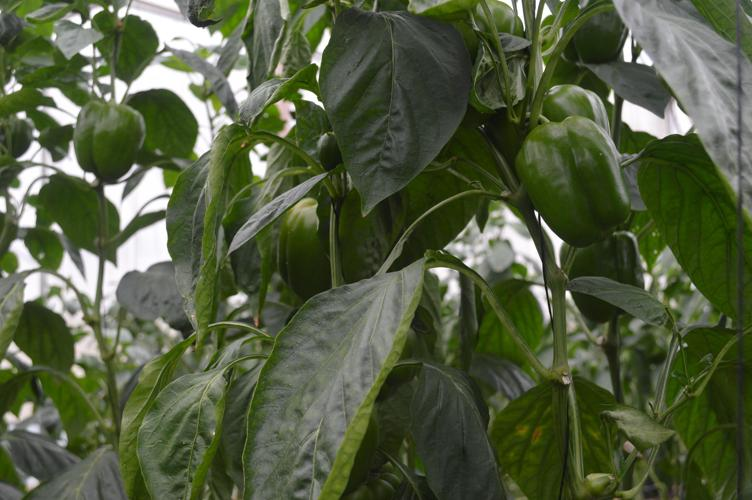BellPepper: (513, 117, 635, 245), (488, 84, 607, 160), (552, 229, 645, 316), (273, 196, 341, 295), (74, 99, 143, 185), (568, 10, 633, 67)
